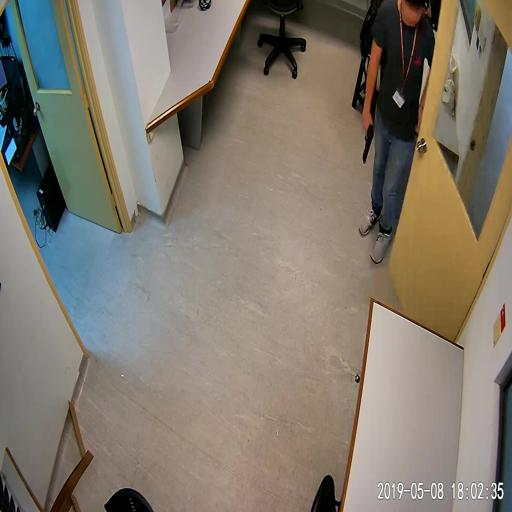pistol: (362, 121, 373, 164)
